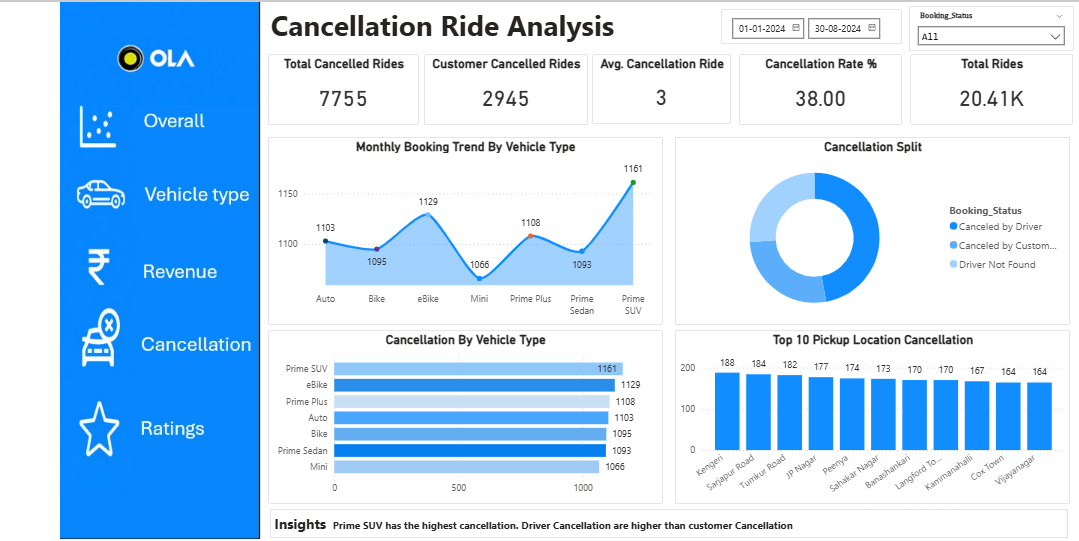

The page's visual inventory and layout, read from the dashboard file:
{"tool":"powerbi","page":{"name":"Cancellation","canvas":[1440,720],"ordinal":3},"visuals":[{"type":"actionButton","box":[82.7,198.1,261.5,130.8],"z":0},{"type":"actionButton","box":[80.8,313.5,263.5,90.4],"z":1000},{"type":"actionButton","box":[80.8,134.6,263.5,88.5],"z":2000},{"type":"actionButton","box":[80.8,525,263.5,130.8],"z":3000},{"type":"textbox","box":[355.8,0,496.2,69.2],"z":4000},{"type":"card","title":"Total Cancelled Rides","fields":{"Values":["July.Total Cancelled Rides"]},"box":[357.7,69.2,200,94.2],"z":5000},{"type":"card","title":"Customer Cancelled Rides","fields":{"Values":["CountNonNull(July.Canceled_Rides_by_Customer)"]},"box":[565.4,69.2,217.3,94.2],"z":6000},{"type":"card","title":"Cancellation Rate %","fields":{"Values":["July.Cancellation Rate %"]},"box":[985,70,216.7,93.3],"z":7000},{"type":"slicer","fields":{"Values":["Sheet1.Date"]},"box":[961.5,9.6,240.4,46.2],"z":8000},{"type":"donutChart","title":"Cancellation Split","fields":{"Y":["CountNonNull(July.Booking_ID)"],"Category":["July.Booking_Status"]},"box":[900,180.8,526.9,250],"z":9000},{"type":"clusteredColumnChart","title":"Top 10 Pickup Location Cancellation","fields":{"Category":["Sheet1.Pickup_Location"],"Y":["July.Total Cancelled Rides"]},"box":[900,438.5,526.9,230.8],"z":10000},{"type":"lineChart","title":"Monthly Booking Trend By Vehicle Type","fields":{"Category":["Sheet1.Vehicle_Type","July.Date.Variation.Date Hierarchy.Year","July.Date.Variation.Date Hierarchy.Quarter","July.Date.Variation.Date Hierarchy.Month","July.Date.Variation.Date Hierarchy.Day"],"Y":["July.Total Cancelled Rides"]},"box":[357.7,180.8,525,250],"z":11000},{"type":"card","title":"Total Rides","fields":{"Values":["CountNonNull(July.Canceled_Rides_by_Driver)"]},"box":[1213.3,70,216.7,93.3],"z":12000},{"type":"clusteredBarChart","title":"Cancellation By Vehicle Type","fields":{"Category":["Sheet1.Vehicle_Type"],"Y":["July.Total Cancelled Rides"]},"box":[357.7,438.5,525,230.8],"z":13000},{"type":"card","title":"Avg. Cancellation Ride","fields":{"Values":["CountNonNull(Sheet1.Canceled_Rides_by_Driver)"]},"box":[790.4,69.2,184.6,92.3],"z":14000},{"type":"textbox","box":[359.6,676.9,1063.5,38.5],"z":15000},{"type":"slicer","fields":{"Values":["July.Booking_Status"]},"box":[1211.5,5.8,219.2,59.6],"z":16000}]}

Visuals, with their boxes in screenshot pixels (x1, y1, x2, y2), scaled from the page's 1440x720 canvas onto the 1079x541 screenshot:
actionButton: detection(62, 149, 258, 247)
actionButton: detection(61, 236, 258, 303)
actionButton: detection(61, 101, 258, 168)
actionButton: detection(61, 394, 258, 493)
textbox: detection(267, 0, 638, 52)
"Total Cancelled Rides" card: detection(268, 52, 418, 123)
"Customer Cancelled Rides" card: detection(424, 52, 586, 123)
"Cancellation Rate %" card: detection(738, 53, 900, 123)
slicer - Sheet1.Date: detection(720, 7, 901, 42)
"Cancellation Split" donutChart: detection(674, 136, 1069, 324)
"Top 10 Pickup Location Cancellation" clusteredColumnChart: detection(674, 329, 1069, 503)
"Monthly Booking Trend By Vehicle Type" lineChart: detection(268, 136, 661, 324)
"Total Rides" card: detection(909, 53, 1072, 123)
"Cancellation By Vehicle Type" clusteredBarChart: detection(268, 329, 661, 503)
"Avg. Cancellation Ride" card: detection(592, 52, 731, 121)
textbox: detection(269, 509, 1066, 538)
slicer - July.Booking_Status: detection(908, 4, 1072, 49)
